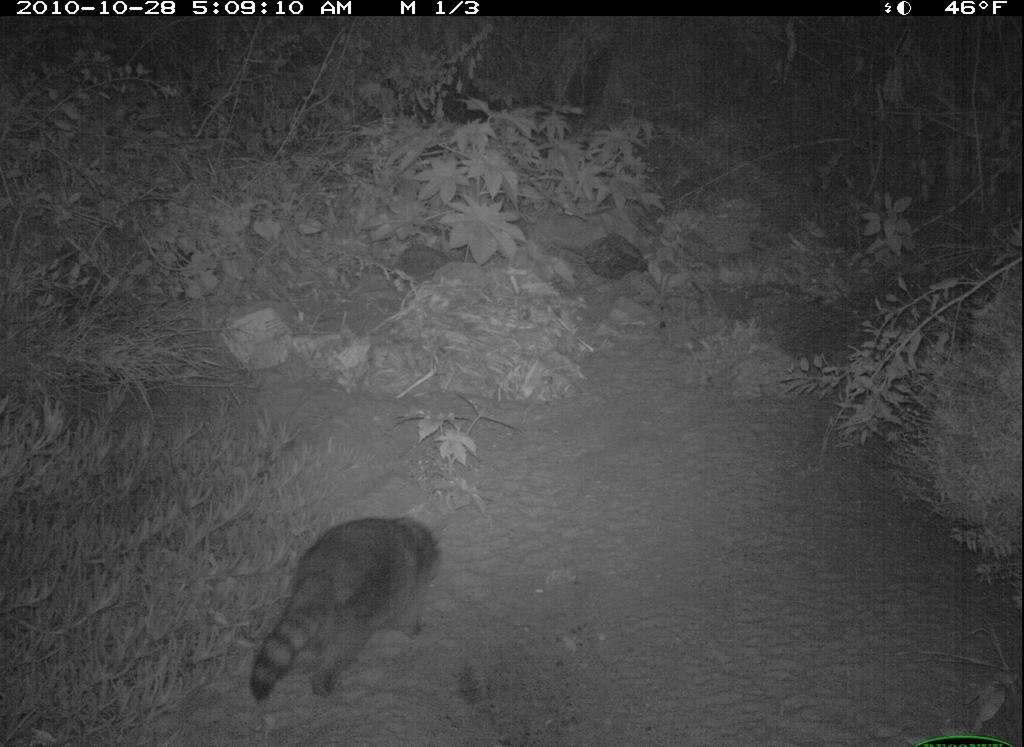raccoon: (241, 513, 449, 712)
